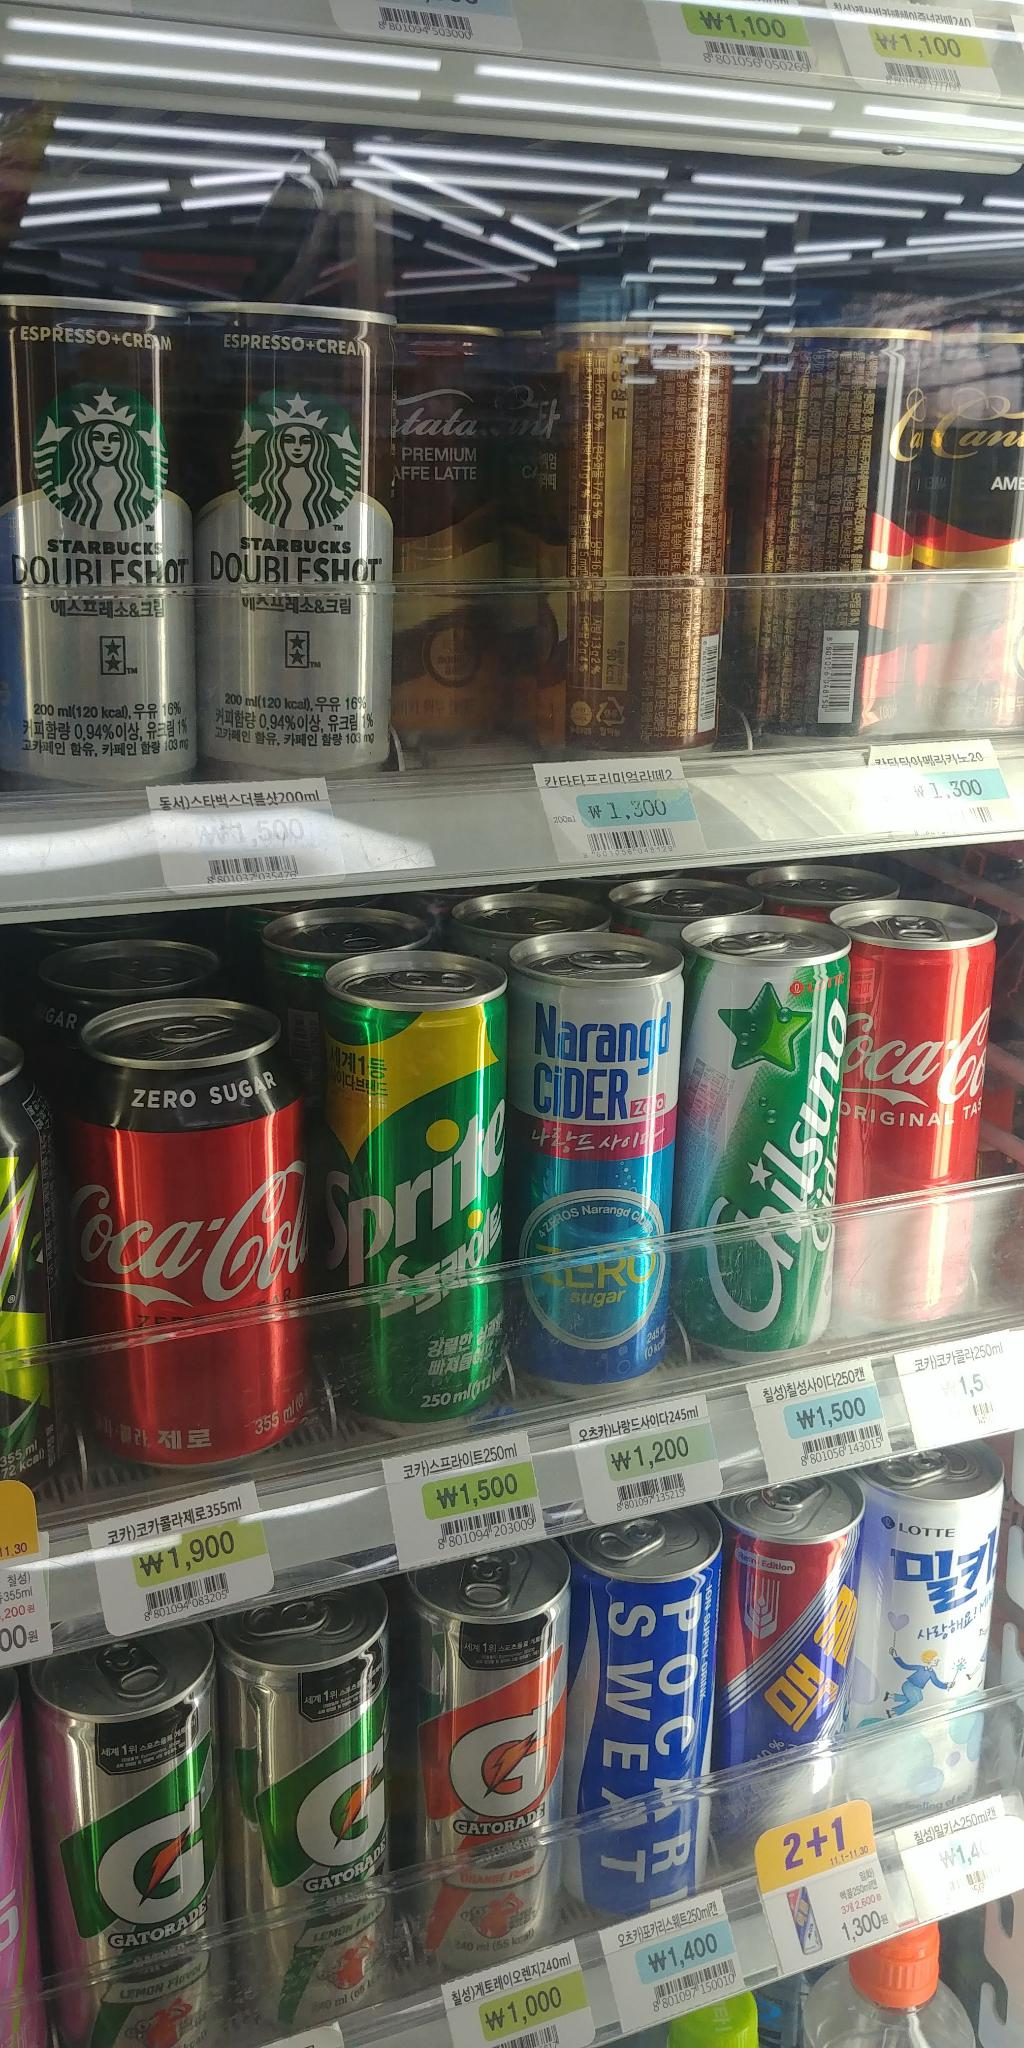narangdcider: (494, 926, 708, 1412)
